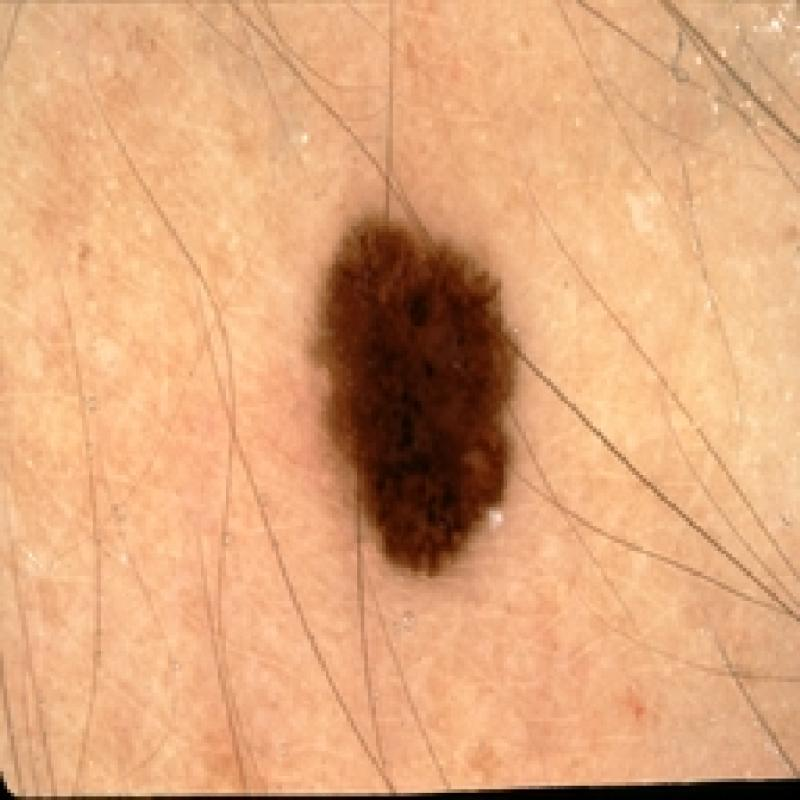malignant: (294, 185, 554, 591)
